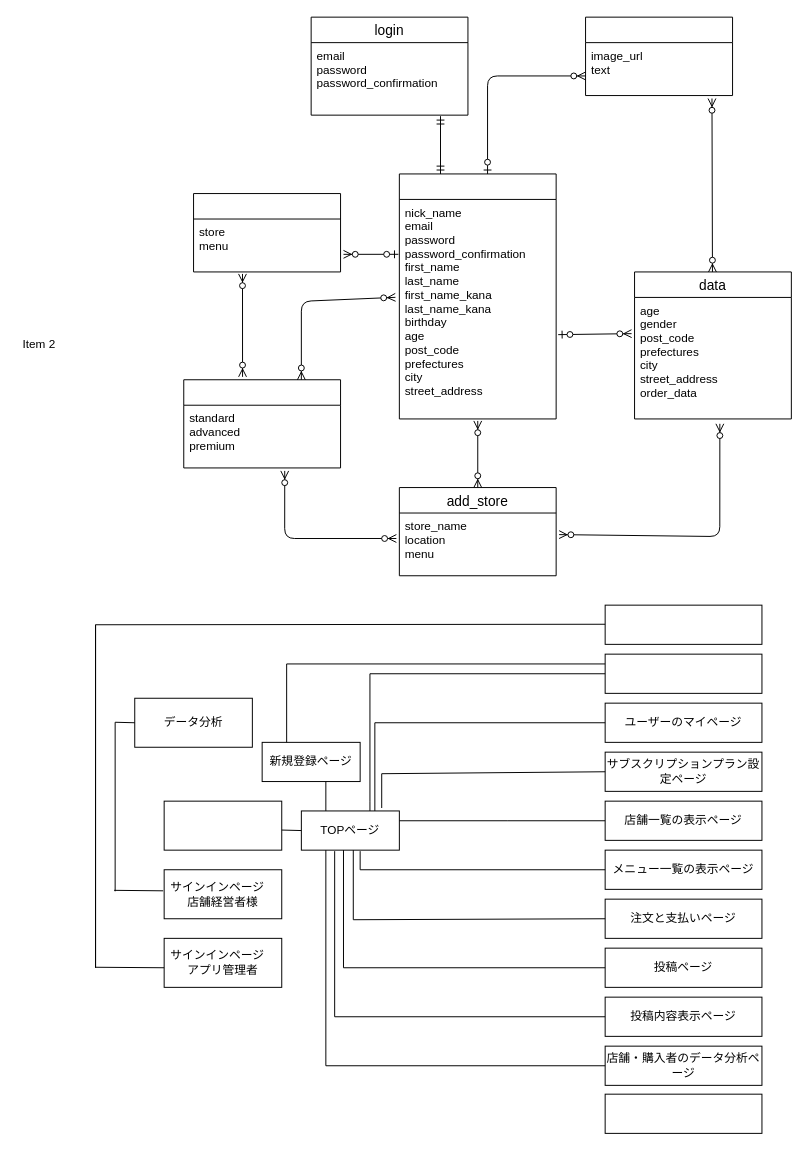
Some shapes in this 809 by 1151 pixel diagram are drawn without their labels. The box of each missing label's shape, as (x1, y1, x2, y2) in pixels:
order: (193, 193, 341, 272)
post: (585, 16, 733, 96)
subscription: (183, 379, 341, 468)
user: (398, 173, 556, 419)
サインインページ お客様: (163, 800, 282, 850)
ログインページ: (604, 653, 762, 693)
店舗の追加: (604, 604, 762, 644)
店舗経営者からユーザーへ 通知: (604, 1093, 762, 1133)
